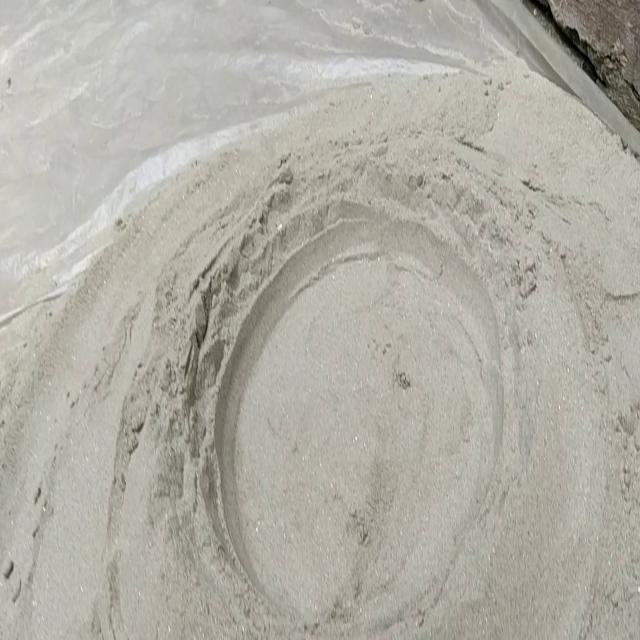C40: (217, 210, 508, 616)
